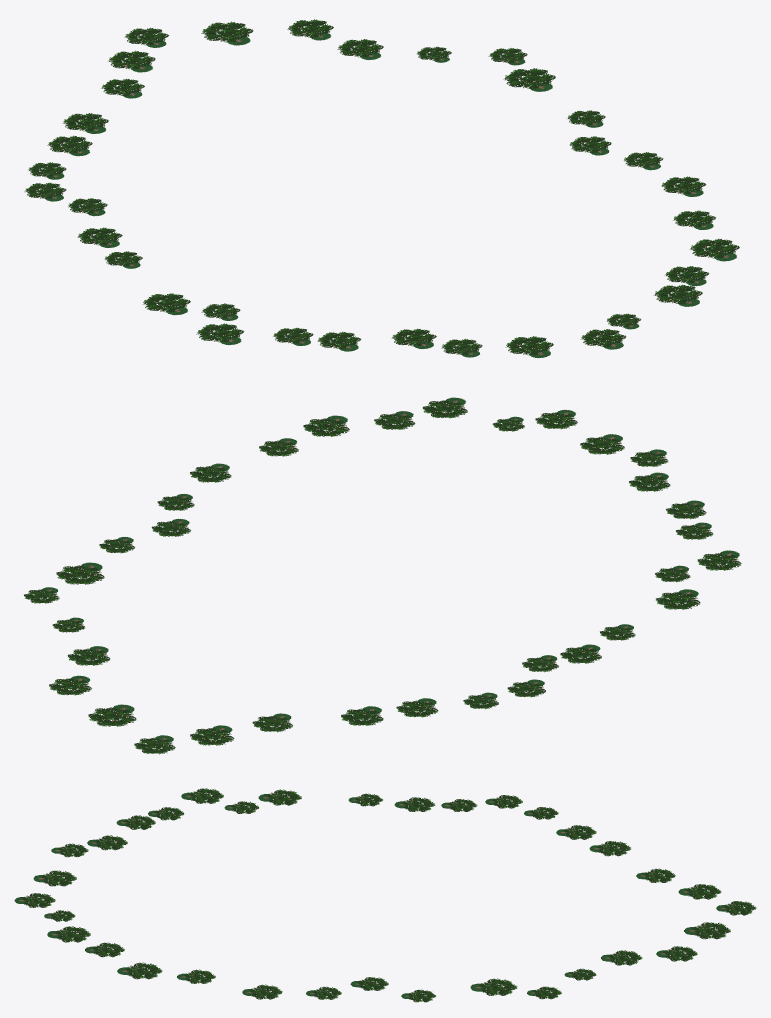
The model's file is glf_map_fc11__glf_tree_fc11.glb.
3 renders of one model, top to bottom at view 1: azimuth 30°, elevation 25°; view 2: azimuth 150°, elevation 25°; view 3: azimuth 270°, elevation 25°, orthographic. The views are drawn at different scales.
Parts seen in each view (by area): view 1: polygon0; view 2: polygon0; view 3: polygon0.
Boxes of the visible parts, bbox=[...] form: polygon0: bbox=[24, 19, 739, 357]; polygon0: bbox=[24, 397, 741, 754]; polygon0: bbox=[14, 788, 756, 1002].
Bounding box in the file's own units: 2659 × 100 × 3892.
Materials: 1 (1 with a texture image).
